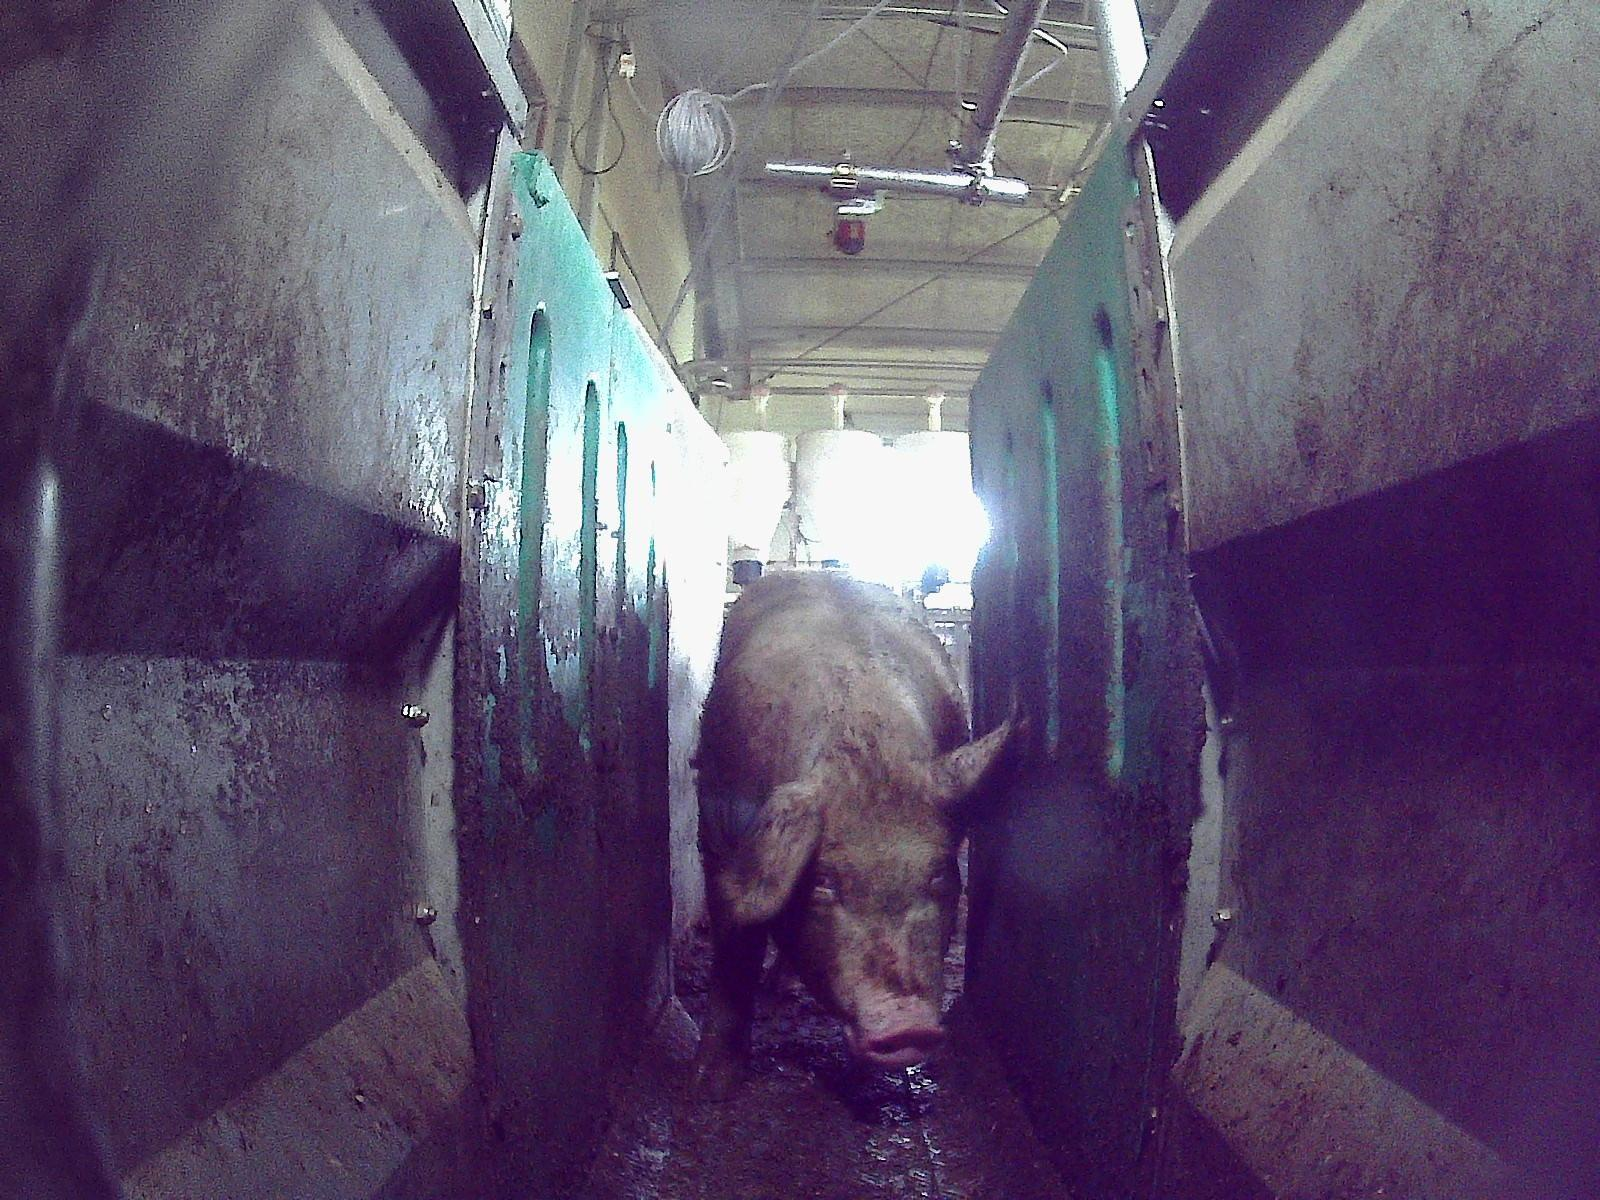Face: (763, 746, 963, 1066)
